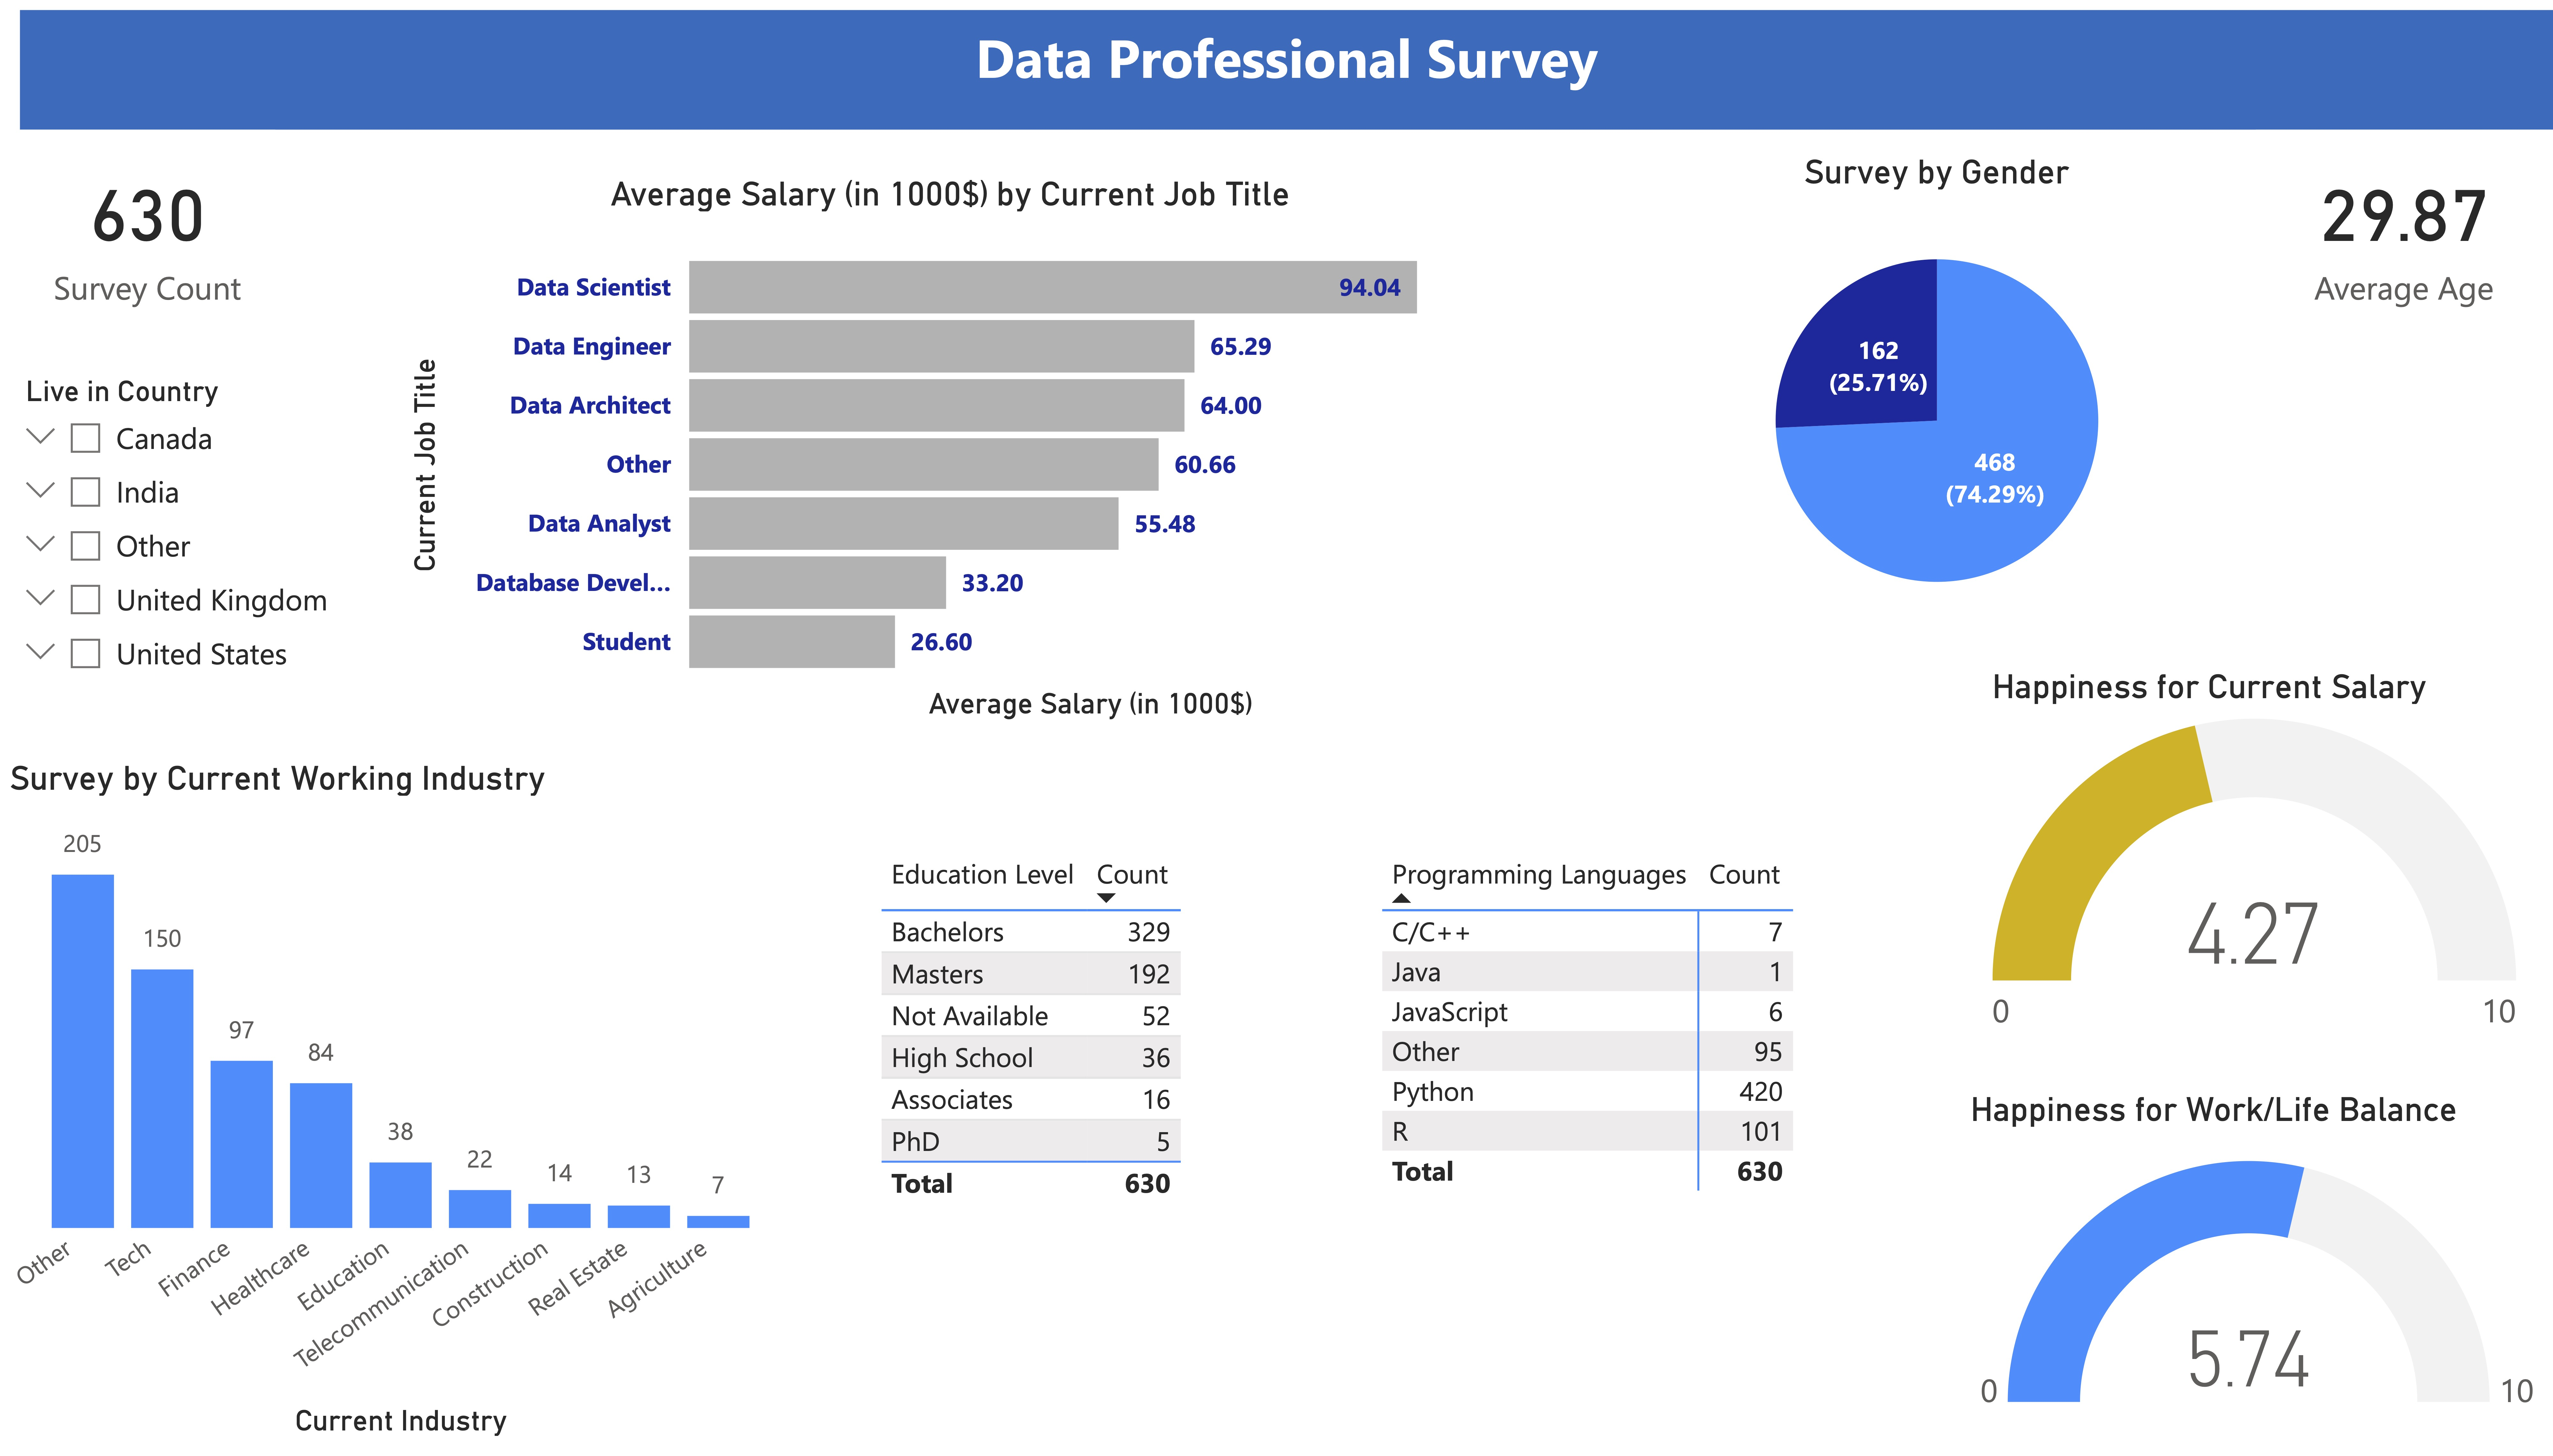

What the dashboard file says about the page in this screenshot:
{"tool":"powerbi","page":{"name":"Dashboard 1","canvas":[1280,720],"ordinal":0},"visuals":[{"type":"textbox","box":[9.7,0,1270.3,60.3],"z":0},{"type":"card","fields":{"Values":["CountNonNull(Data Professional Survey.Unique ID)"]},"box":[9.8,59.7,128.1,101],"z":1000},{"type":"card","fields":{"Values":["Avg(Data Professional Survey.Q10 - Current Age)"]},"box":[1131.3,59.7,148.7,101],"z":2000},{"type":"clusteredBarChart","fields":{"Category":["Data Professional Survey.Q1 - Which Title Best Fits your Current Role?.1"],"Y":["Avg(Data Professional Survey.Average Salary (in Thousand $))"]},"box":[200.3,81.6,552.9,278.6],"z":3000},{"type":"pieChart","title":"Survey by Gender","fields":{"Category":["Data Professional Survey.Q9 - Male/Female?"],"Y":["CountNonNull(Data Professional Survey.Unique ID)"]},"box":[811,70.6,320.3,250.8],"z":4000},{"type":"slicer","fields":{"Values":["Data Professional Survey.Q11 - Which Country do you live in?.1.1","Data Professional Survey.Unique ID"]},"box":[0,178,190,196.5],"z":5000},{"type":"gauge","title":"Happiness for Work/Life Balance","fields":{"Y":["Avg(Data Professional Survey.Q6 - How Happy are you in your Current Position with the following? (Work/Life Balance))"],"MinValue":["Min(Data Professional Survey.Q6 - How Happy are you in your Current Position with the following? (Work/Life Balance))1"],"MaxValue":["Max(Data Professional Survey.Q6 - How Happy are you in your Current Position with the following? (Work/Life Balance))2"]},"box":[982.5,540.7,297.5,179.1],"z":6000},{"type":"gauge","title":"Happiness for Current Salary","fields":{"Y":["Avg(Data Professional Survey.Q6 - How Happy are you in your Current Position with the following? (Salary))"],"MinValue":["Min(Data Professional Survey.Q6 - How Happy are you in your Current Position with the following? (Salary))"],"MaxValue":["Max(Data Professional Survey.Q6 - How Happy are you in your Current Position with the following? (Salary))1"]},"box":[994.5,329,272.5,196.5],"z":7000},{"type":"lineClusteredColumnComboChart","title":"Survey by Current Working Industry","fields":{"Category":["Data Professional Survey.Q4 - What Industry do you work in?.1"],"Y":["CountNonNull(Data Professional Survey.Unique ID)"]},"box":[0,374.6,397.4,345.2],"z":8000},{"type":"pivotTable","title":"Favourite Programming","fields":{"Rows":["Data Professional Survey.Q5 - Favorite Programming Language.1"],"Values":["CountNonNull(Data Professional Survey.Unique ID)"]},"box":[688.3,418,244.3,184.6],"z":9000},{"type":"tableEx","fields":{"Values":["Data Professional Survey.Q12 - Highest Level of Education","CountNonNull(Data Professional Survey.Unique ID)"]},"box":[436.4,418,195.4,188.9],"z":10000}]}

Visuals, with their boxes in screenshot pixels (x1, y1, x2, y2), scaled from the page's 1280x720 canvas onto the 2553x1456 screenshot:
textbox: (19, 0, 2553, 122)
card - CountNonNull(Data Professional Survey.Unique ID): (19, 121, 275, 325)
card - Avg(Data Professional Survey.Q10 - Current Age): (2257, 121, 2553, 325)
clusteredBarChart - Data Professional Survey.Q1 - Which Title Best Fits your Current Role?.1 x Avg(Data Professional Survey.Average Salary (in Thousand $)): (400, 165, 1502, 728)
"Survey by Gender" pieChart: (1618, 143, 2257, 650)
slicer - Data Professional Survey.Q11 - Which Country do you live in?.1.1 x Data Professional Survey.Unique ID: (0, 360, 379, 757)
"Happiness for Work/Life Balance" gauge: (1960, 1094, 2553, 1456)
"Happiness for Current Salary" gauge: (1984, 665, 2527, 1063)
"Survey by Current Working Industry" lineClusteredColumnComboChart: (0, 758, 793, 1456)
"Favourite Programming" pivotTable: (1373, 845, 1860, 1219)
tableEx - Data Professional Survey.Q12 - Highest Level of Education x CountNonNull(Data Professional Survey.Unique ID): (871, 845, 1260, 1227)
